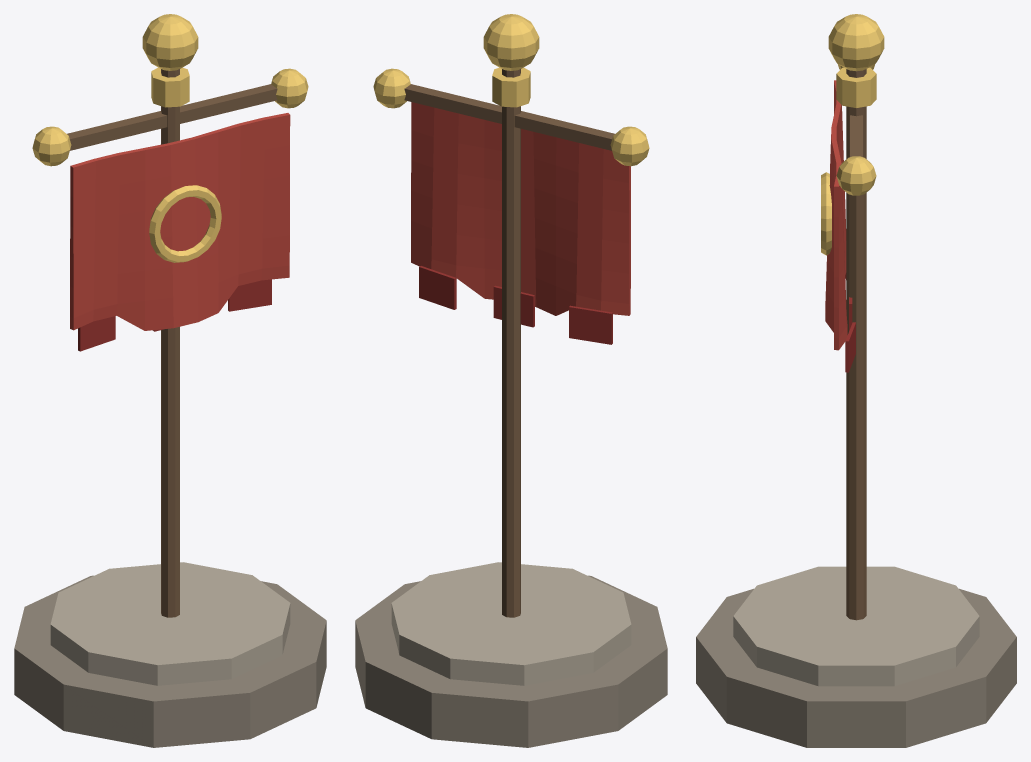
Rendered from marker_banner.glb.
3 views of the same model, side by side, from view 1: azimuth 30°, elevation 25°; view 2: azimuth 150°, elevation 25°; view 3: azimuth 270°, elevation 25° (orthographic).
Parts seen in each view (by area): view 1: Banner_Cloth, Banner_Base, Banner_Plinth, Banner_Pole, Banner_Crossbar, Banner_Finial, Banner_Ring, Banner_Collar, Banner_CrossTip_-1, Banner_CrossTip_1, Banner_Tail_2, Banner_Tail_0; view 2: Banner_Cloth, Banner_Base, Banner_Plinth, Banner_Pole, Banner_Crossbar, Banner_Finial, Banner_Tail_0, Banner_Collar, Banner_Tail_2, Banner_CrossTip_-1, Banner_CrossTip_1, Banner_Tail_1; view 3: Banner_Base, Banner_Plinth, Banner_Pole, Banner_Cloth, Banner_Finial, Banner_Collar, Banner_CrossTip_1, Banner_Ring, Banner_Crossbar.
Part boxes in pixels (bbox=[...]): Banner_Cloth: bbox=[70, 113, 290, 330]; Banner_Base: bbox=[14, 575, 326, 747]; Banner_Plinth: bbox=[50, 562, 290, 685]; Banner_Pole: bbox=[161, 69, 179, 617]; Banner_Crossbar: bbox=[67, 84, 277, 150]; Banner_Finial: bbox=[142, 14, 198, 70]; Banner_Ring: bbox=[149, 185, 221, 262]; Banner_Collar: bbox=[151, 67, 189, 107]; Banner_CrossTip_-1: bbox=[32, 126, 71, 166]; Banner_CrossTip_1: bbox=[271, 68, 308, 108]; Banner_Tail_2: bbox=[228, 279, 271, 311]; Banner_Tail_0: bbox=[78, 316, 115, 351]; Banner_Cloth: bbox=[411, 102, 630, 315]; Banner_Base: bbox=[355, 575, 667, 747]; Banner_Plinth: bbox=[391, 562, 631, 685]; Banner_Pole: bbox=[502, 69, 520, 617]; Banner_Crossbar: bbox=[404, 84, 614, 150]; Banner_Finial: bbox=[483, 14, 539, 70]; Banner_Tail_0: bbox=[569, 305, 612, 344]; Banner_Collar: bbox=[492, 67, 530, 107]; Banner_Tail_2: bbox=[419, 266, 456, 309]; Banner_CrossTip_-1: bbox=[610, 126, 649, 166]; Banner_CrossTip_1: bbox=[373, 68, 410, 108]; Banner_Tail_1: bbox=[493, 285, 534, 327]; Banner_Base: bbox=[696, 588, 1016, 747]; Banner_Plinth: bbox=[733, 566, 979, 686]; Banner_Pole: bbox=[846, 69, 866, 620]; Banner_Cloth: bbox=[825, 80, 847, 350]; Banner_Finial: bbox=[828, 14, 884, 71]; Banner_Collar: bbox=[836, 67, 876, 107]; Banner_CrossTip_1: bbox=[836, 156, 876, 195]; Banner_Ring: bbox=[821, 172, 831, 255]; Banner_Crossbar: bbox=[850, 115, 862, 156].
Size of the model in its own units: 1.09 by 2.57 by 1.12.
